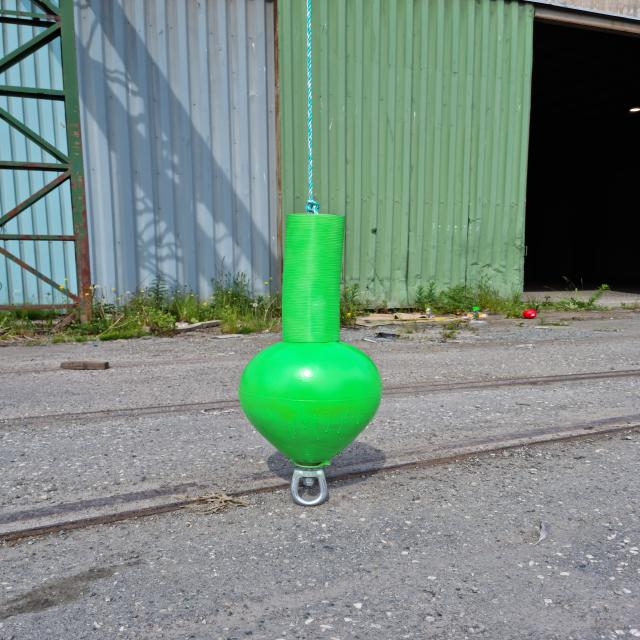green: (238, 214, 384, 466)
